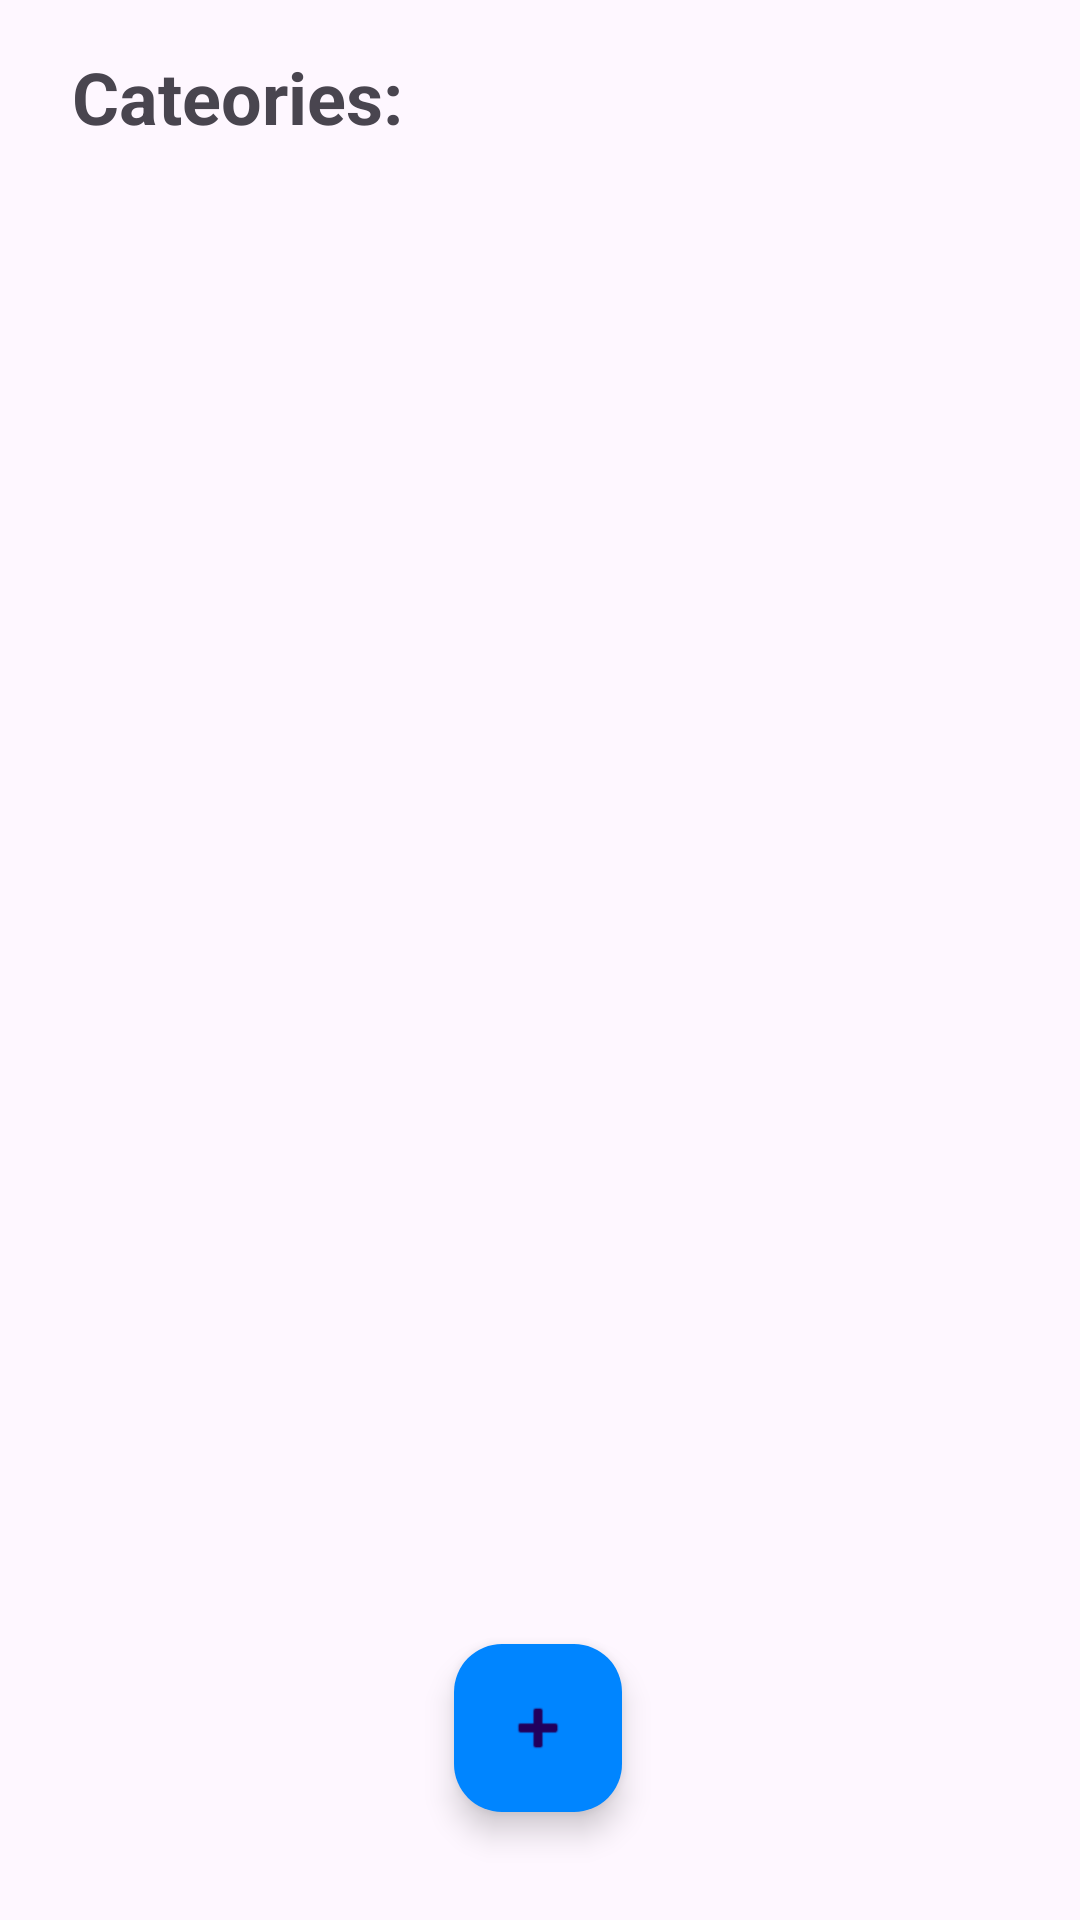

Icons on this 1080px×1920px Android screen, each with its box as (x1, y1, x2, y2):
add: (454, 1644, 622, 1812)
